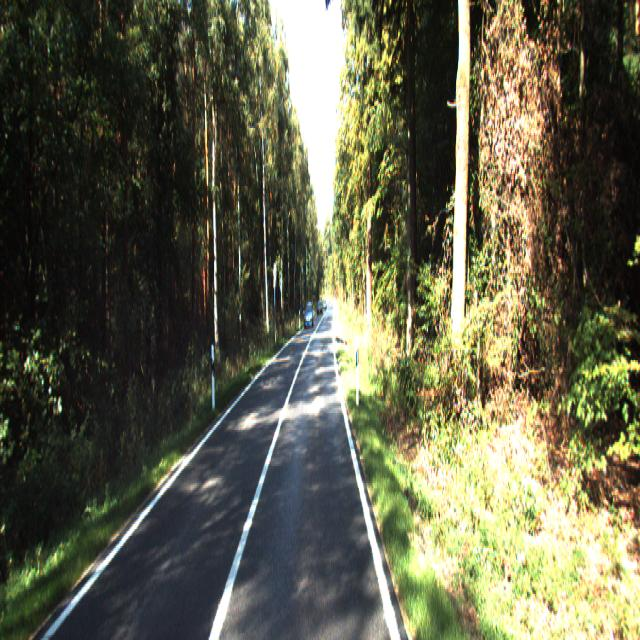Car: (304, 304, 314, 332)
DontCare: (318, 297, 326, 318)
